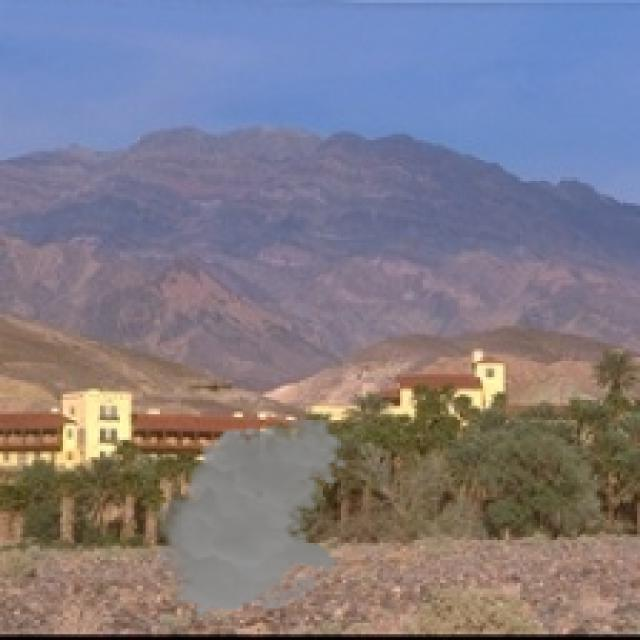smoke: (146, 417, 348, 617)
